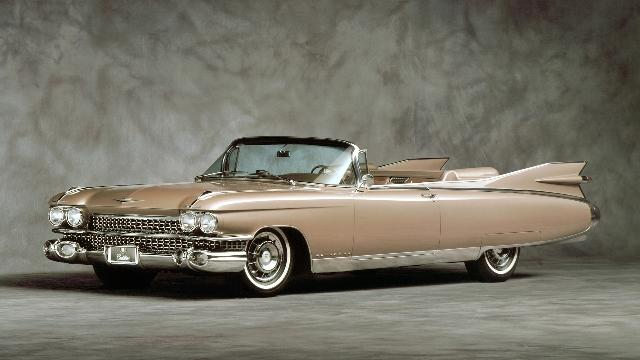cadillac: (43, 136, 601, 296)
